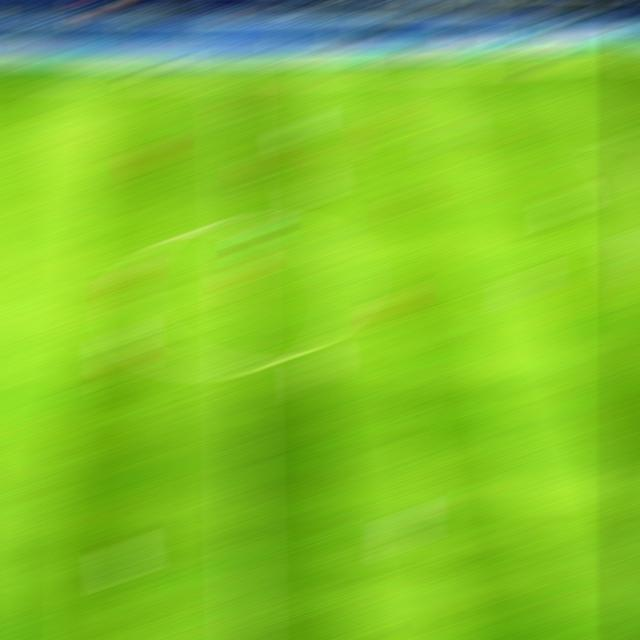bigarea_top_inner: (594, 135, 626, 141)
halfcircle_bottom: (224, 364, 258, 372)
halfcircle_top: (220, 219, 254, 226)
midline_top_intersection: (219, 77, 249, 88)
